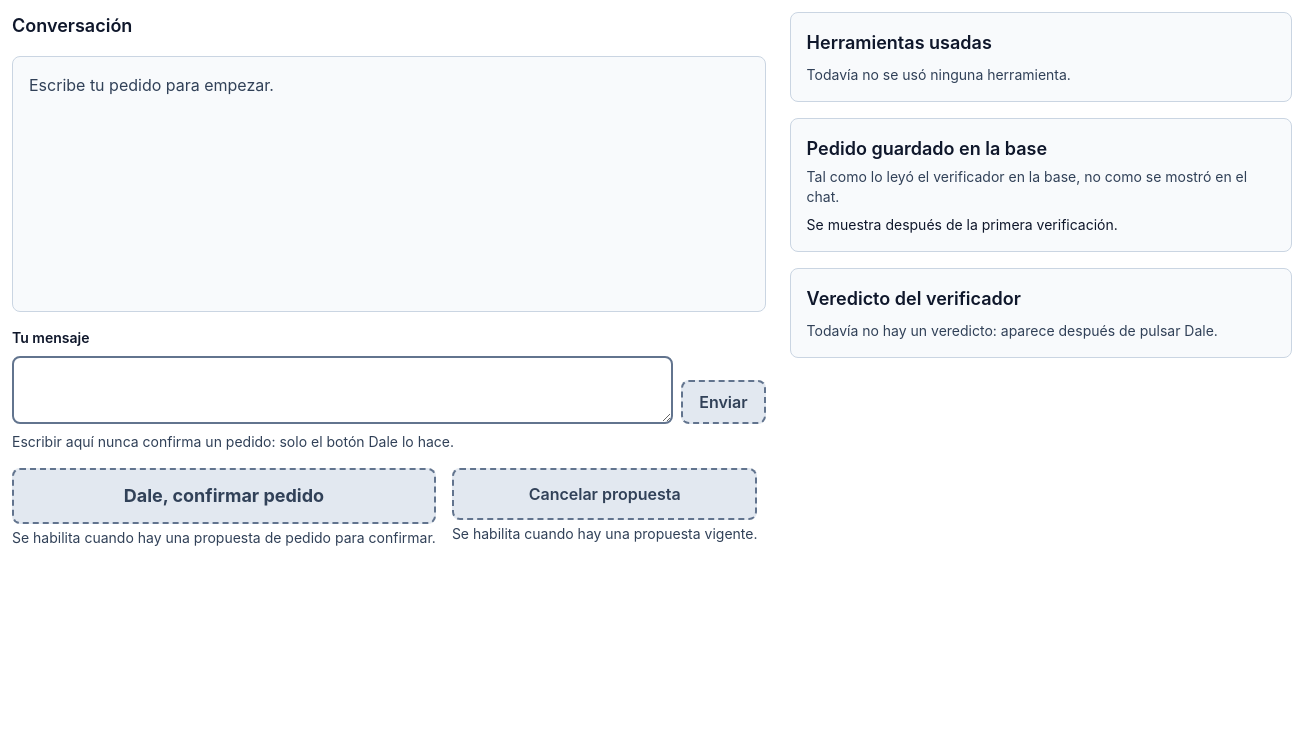
Test case: async states (S16.1) › starts a new clock for the next action
This screenshot has width=1292, height=732.
Type "dos harinas" into the text box labelled "Tu mensaje".
click(343, 390); type("dos harinas")  # box [12, 356, 673, 424]
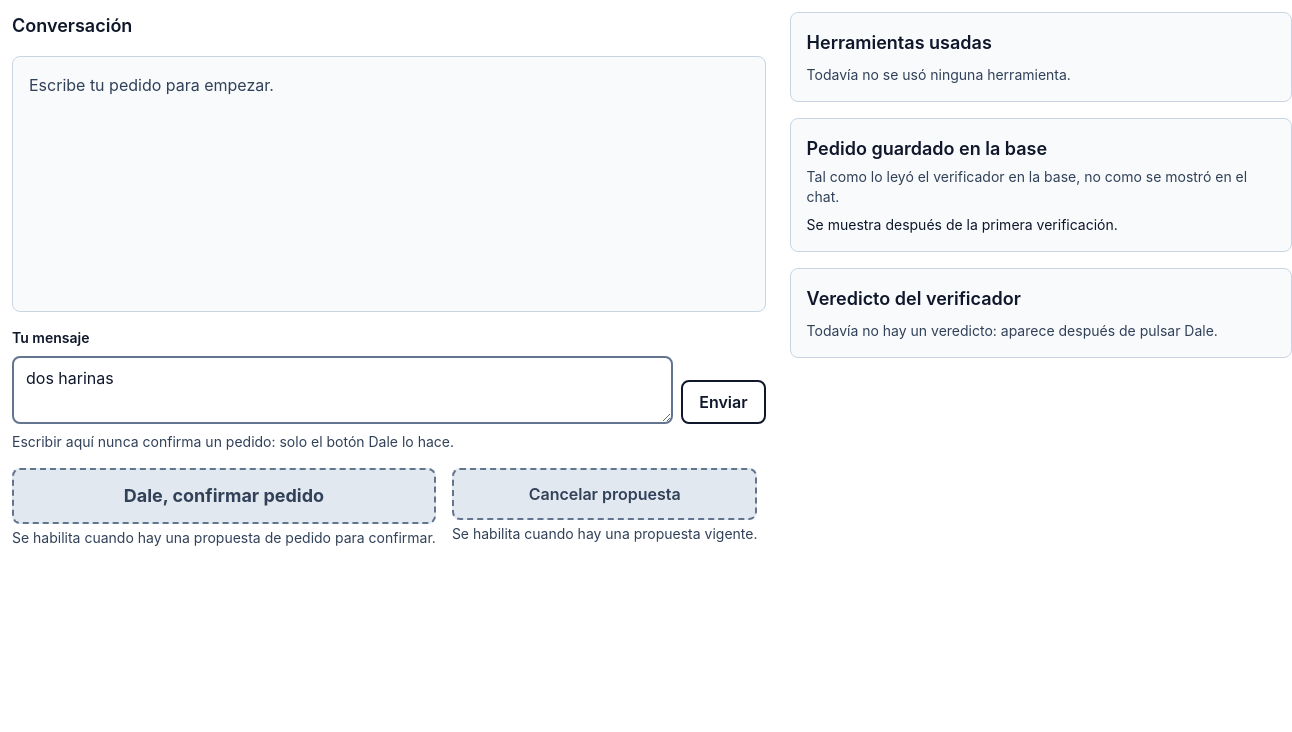
Click the button "Enviar".
click(723, 402)  # box [681, 380, 766, 424]
Wait 9000 ms
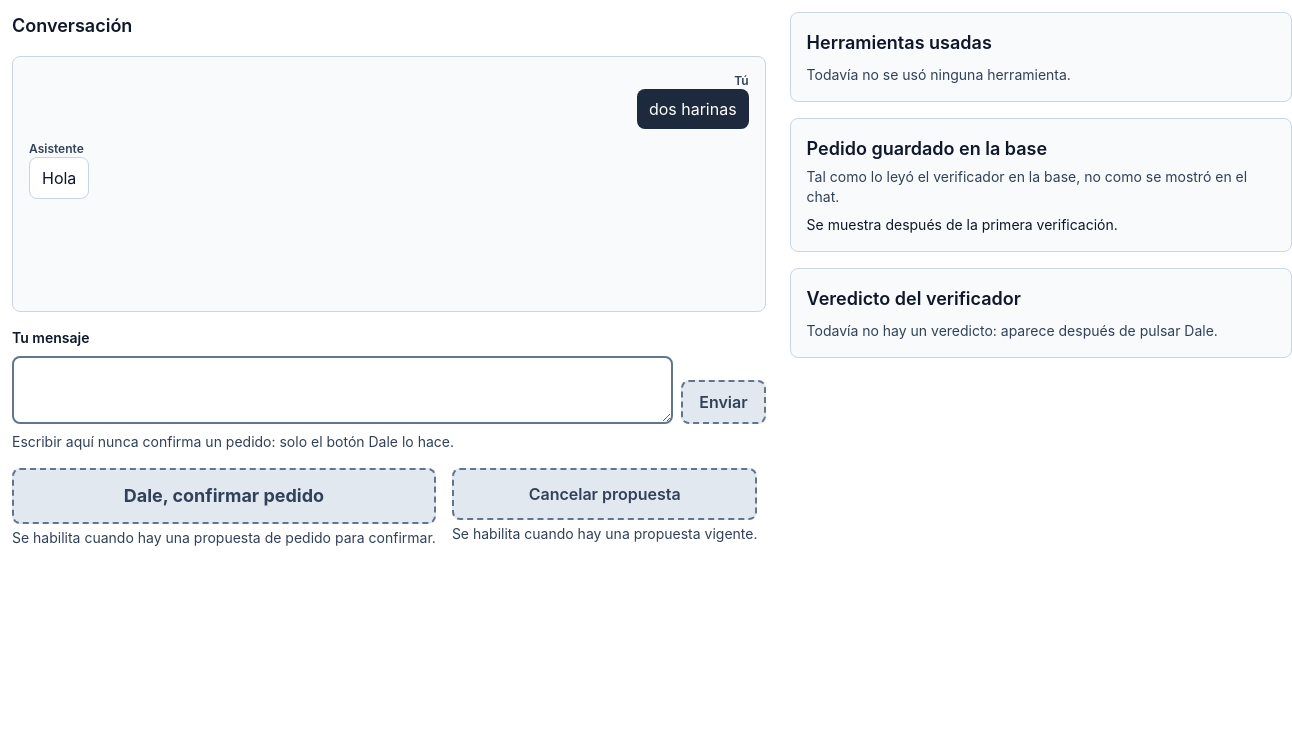
Type "otra" into the text box labelled "Tu mensaje".
click(343, 390); type("otra")  # box [12, 356, 673, 424]
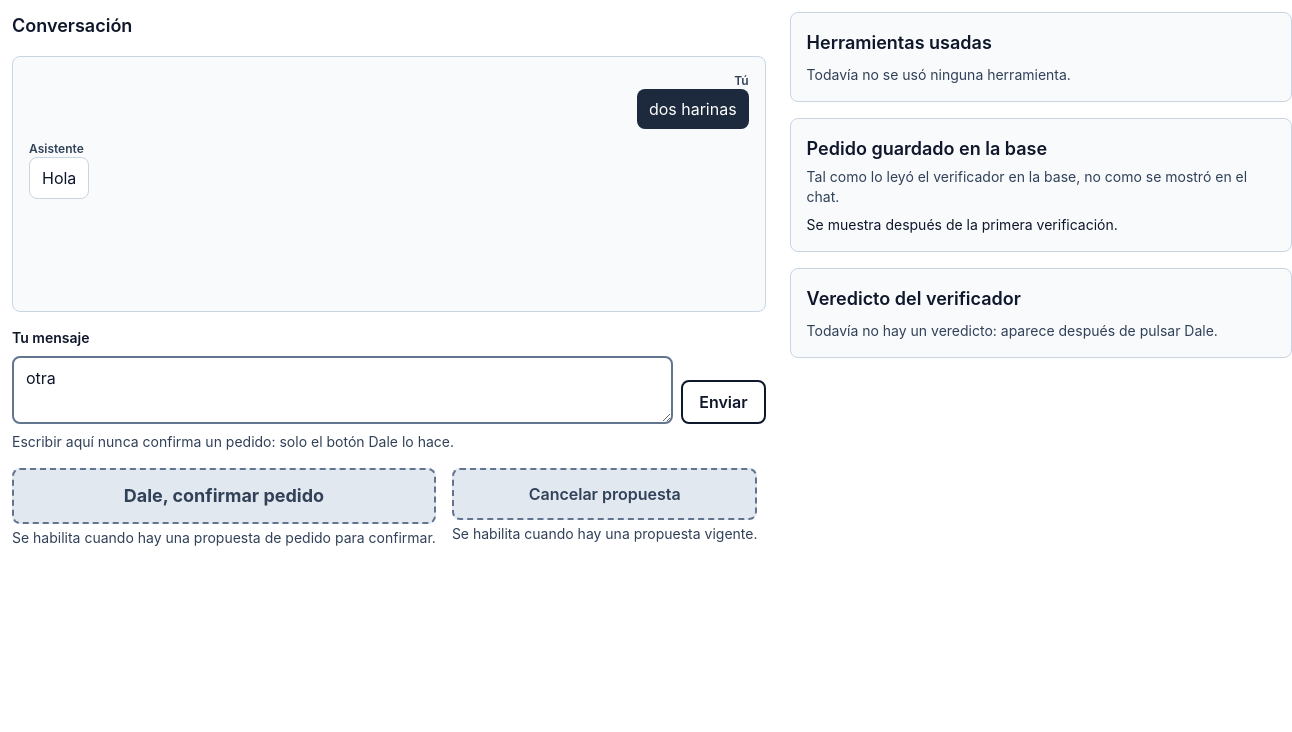
Click the button "Enviar".
click(723, 402)  # box [681, 380, 766, 424]
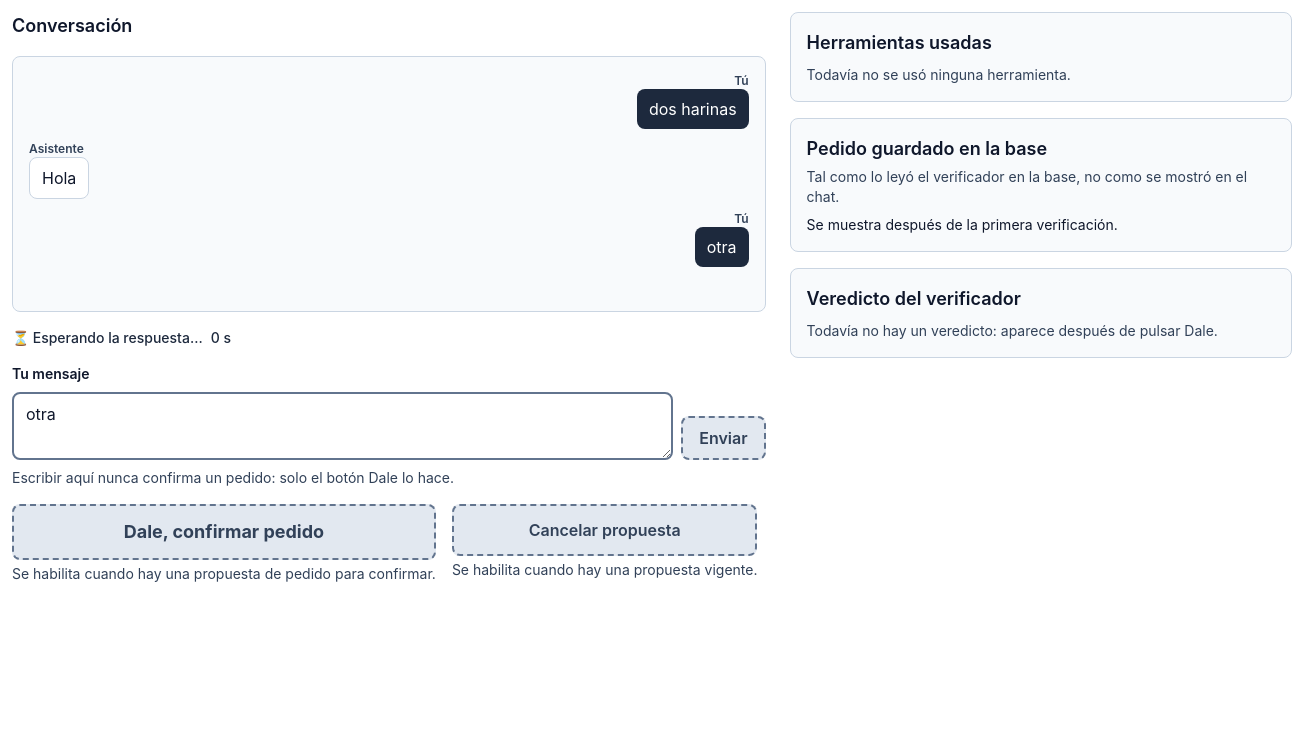
Expected: the text "0 s" is shown, [211, 328, 231, 348]
